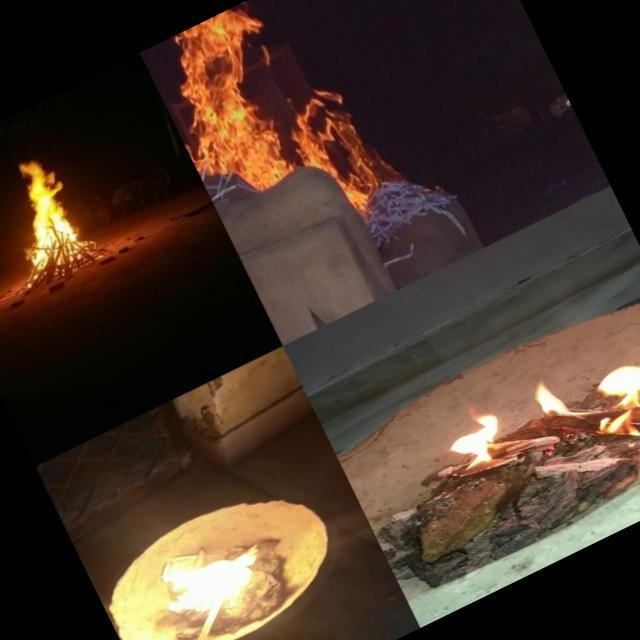fire: (139, 0, 433, 271), (434, 322, 640, 534), (130, 529, 277, 640), (0, 149, 95, 276)
